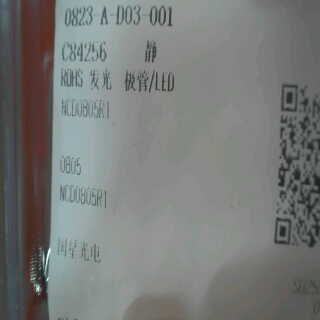LED: (88, 66, 176, 96)
